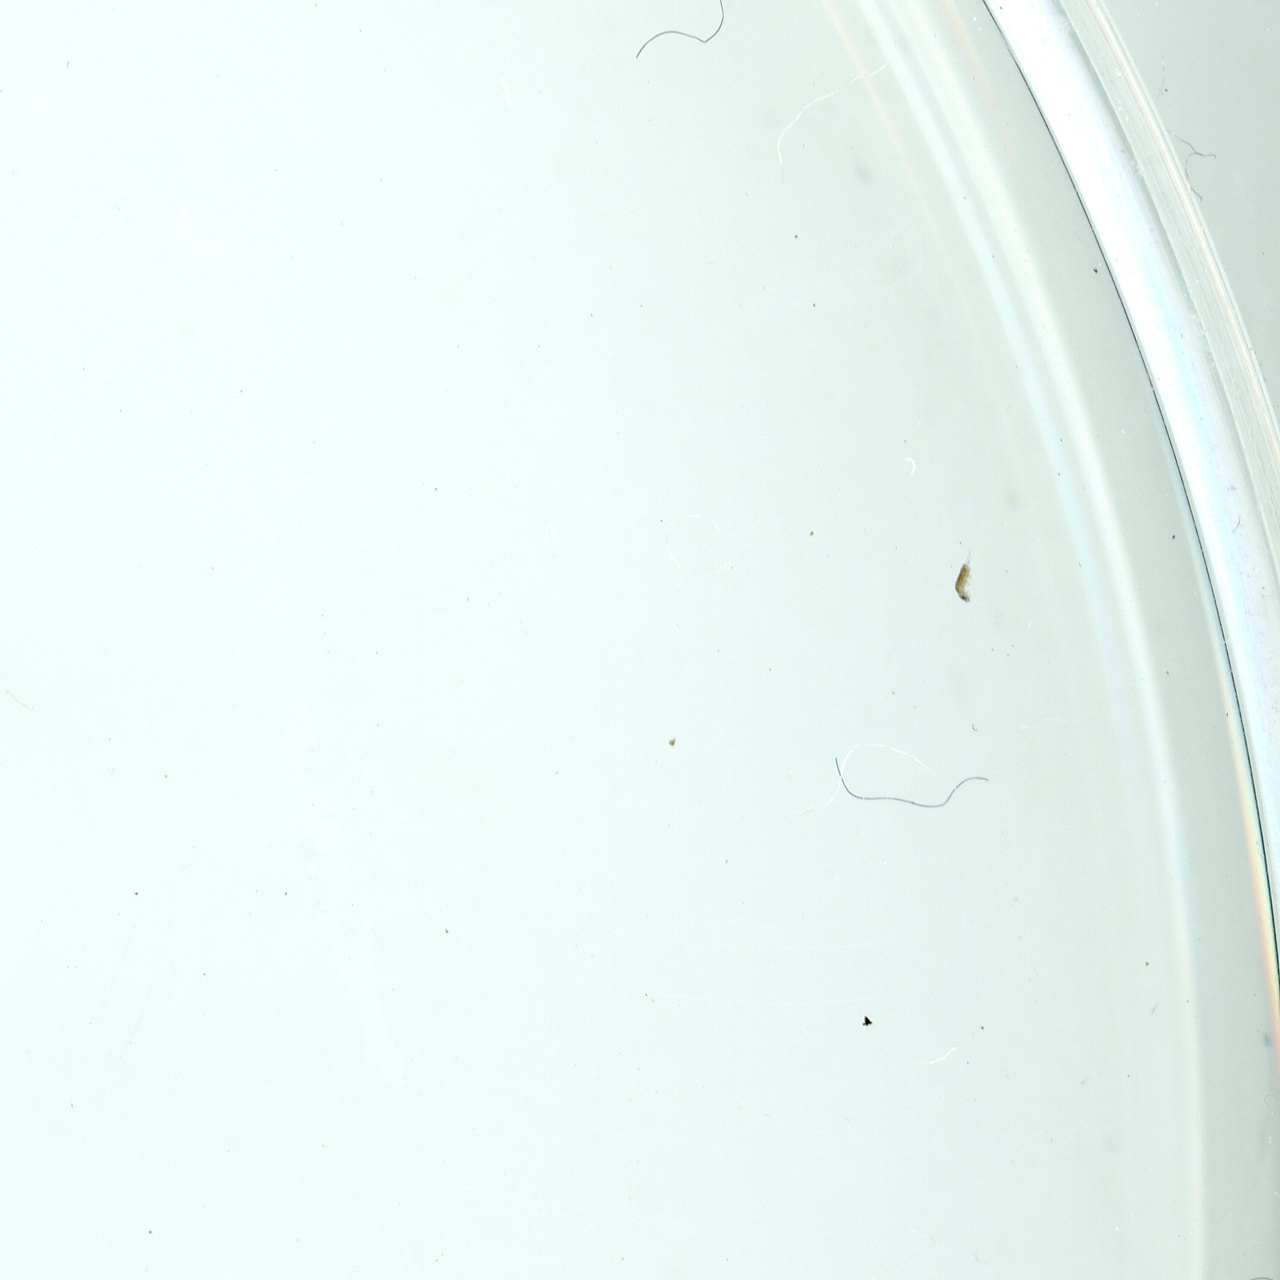arthropod: (947, 537, 981, 617)
